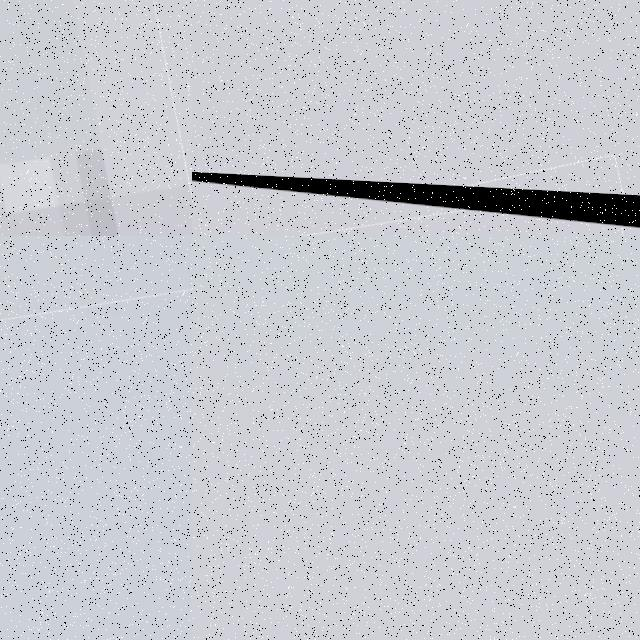drone: (0, 0, 192, 236), (192, 162, 640, 236), (0, 236, 192, 346)
